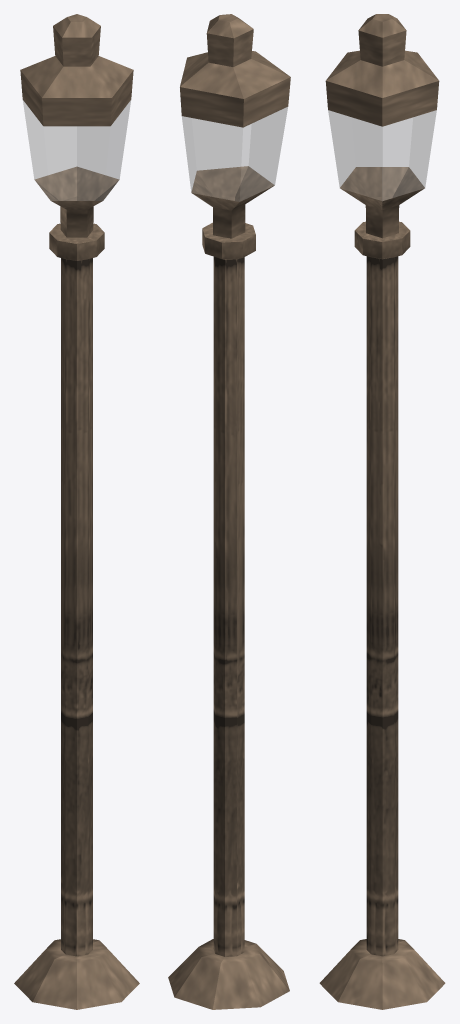
File: PillarMini.fbx
3 views of the same model, side by side, from view 1: azimuth 90°, elevation 25°; view 2: azimuth 210°, elevation 25°; view 3: azimuth 270°, elevation 25° (orthographic).
Visible parts, largest first — view 1: PillarMini; view 2: PillarMini; view 3: PillarMini.
Boxes of the visible parts, x1=… form: PillarMini: x1=14, y1=14, x2=139, y2=1009; PillarMini: x1=168, y1=14, x2=290, y2=1009; PillarMini: x1=319, y1=14, x2=445, y2=1009.
Size of the model in its own units: 3.43 by 28.98 by 3.43.
2 materials, 1 textured.
